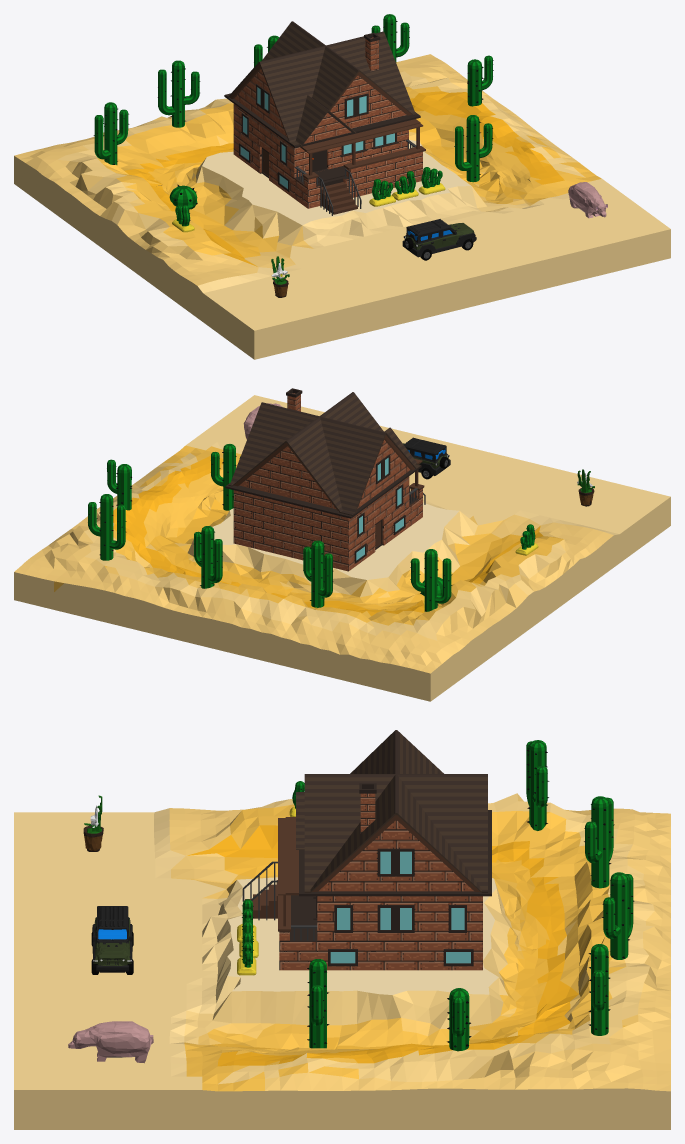
The picture shows the model from 3 angles, top to bottom: view 1: azimuth 30°, elevation 25°; view 2: azimuth 150°, elevation 25°; view 3: azimuth 270°, elevation 25°; orthographic projection. The views are drawn at different scales.
Parts seen in each view (by area): view 1: Cube.001, Cube.469, VEHICLES_JEEP, Cylinder.037, Cylinder.044, Cylinder.045, Cylinder.038, ANIMAL_HIPOPOTAMO, Cylinder.042, Cylinder.039, Cylinder.041, OBJRANDOM_MONJA BLANCA (+2 smaller); view 2: Cube.001, Cube.469, Cylinder.042, Cylinder.045, Cylinder.044, Cylinder.043, VEHICLES_JEEP, Cylinder.037, Cylinder.038; view 3: Cube.001, Cube.469, VEHICLES_JEEP, ANIMAL_HIPOPOTAMO, Cylinder.043, Cylinder.044, Cylinder.045, Cylinder.042, Cylinder.037, Cylinder.038, OBJRANDOM_MONJA BLANCA, Cylinder.041.
Boxes of the visible parts, <box> form: Cube.001: <box>14,54,670,359</box>; Cube.469: <box>224,21,425,215</box>; VEHICLES_JEEP: <box>402,219,476,260</box>; Cylinder.037: <box>454,115,493,182</box>; Cylinder.044: <box>157,60,200,127</box>; Cylinder.045: <box>93,102,129,164</box>; Cylinder.038: <box>467,55,493,106</box>; ANIMAL_HIPOPOTAMO: <box>568,182,607,218</box>; Cylinder.042: <box>371,14,409,62</box>; Cylinder.039: <box>369,179,395,206</box>; Cylinder.041: <box>418,167,445,194</box>; OBJRANDOM_MONJA BLANCA: <box>271,256,289,297</box>; Cube.001: <box>14,395,670,701</box>; Cube.469: <box>225,388,425,571</box>; Cylinder.042: <box>88,494,126,560</box>; Cylinder.045: <box>410,549,452,611</box>; Cylinder.044: <box>303,540,333,607</box>; Cylinder.043: <box>193,526,222,588</box>; VEHICLES_JEEP: <box>403,437,450,479</box>; Cylinder.037: <box>211,444,240,510</box>; Cylinder.038: <box>107,459,131,510</box>; Cube.001: <box>14,793,670,1129</box>; Cube.469: <box>242,730,491,970</box>; VEHICLES_JEEP: <box>91,906,133,974</box>; ANIMAL_HIPOPOTAMO: <box>68,1021,153,1063</box>; Cylinder.043: <box>602,872,634,959</box>; Cylinder.044: <box>584,796,614,888</box>; Cylinder.045: <box>526,740,549,830</box>; Cylinder.042: <box>588,944,610,1035</box>; Cylinder.037: <box>307,959,329,1048</box>; Cylinder.038: <box>447,988,471,1051</box>; OBJRANDOM_MONJA BLANCA: <box>83,795,103,851</box>; Cylinder.041: <box>237,932,256,975</box>.
Size of the model in its own units: 4002 by 1605 by 4001.
33 materials, 3 textured.
